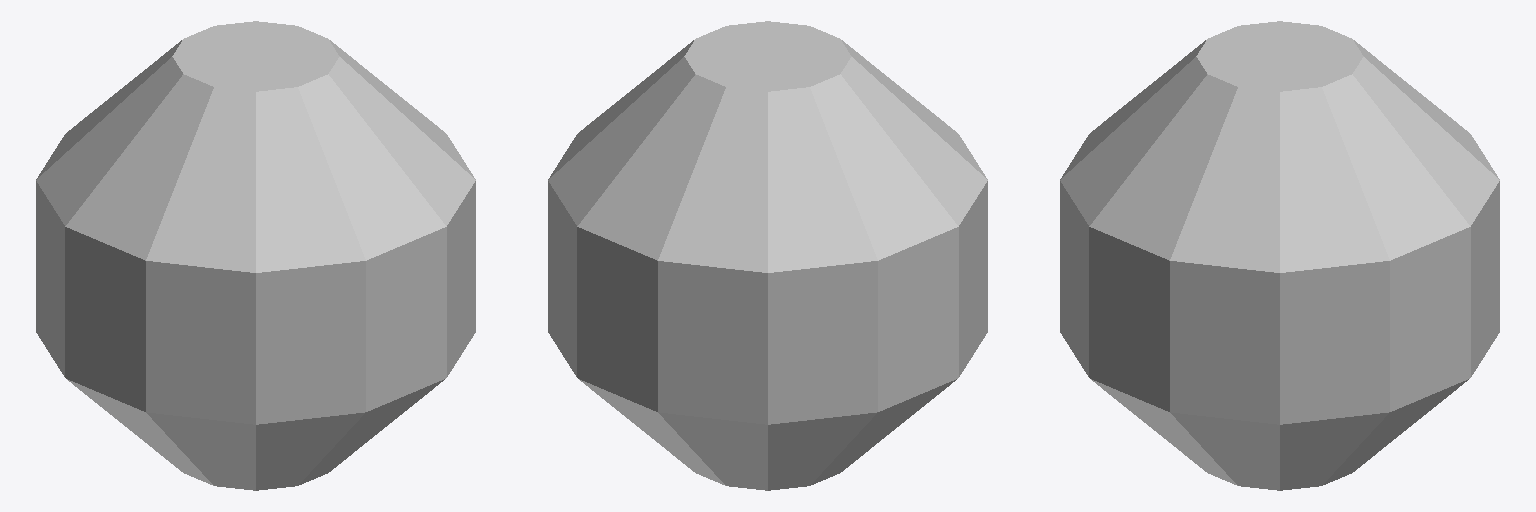
File: booblie.obj
3 renders of one model, left to right at view 1: azimuth 30°, elevation 25°; view 2: azimuth 150°, elevation 25°; view 3: azimuth 270°, elevation 25°, orthographic.
Parts seen in each view (by area): view 1: ChamferCyl01; view 2: ChamferCyl01; view 3: ChamferCyl01.
Boxes of the visible parts, x1,y1,x2,y2 form: ChamferCyl01: [36, 21, 475, 490]; ChamferCyl01: [548, 21, 987, 490]; ChamferCyl01: [1060, 21, 1499, 490].
Bounding box in the file's own units: 1 × 1 × 1.